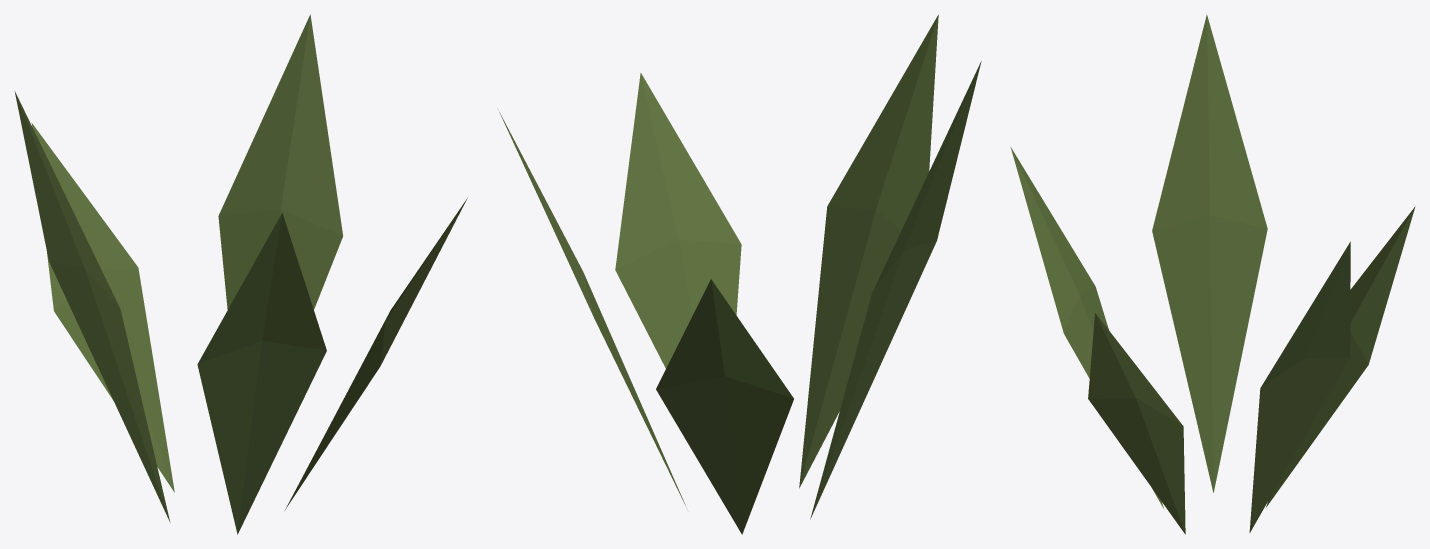
3 renders of one model, left to right at view 1: azimuth 30°, elevation 25°; view 2: azimuth 150°, elevation 25°; view 3: azimuth 270°, elevation 25°, orthographic. The views are drawn at different scales.
Parts seen in each view (by area): view 1: V03_绿洲长叶; view 2: V03_绿洲长叶; view 3: V03_绿洲长叶.
Boxes of the visible parts, x1,y1,x2,y2 form: V03_绿洲长叶: (14, 14, 467, 534); V03_绿洲长叶: (497, 14, 981, 534); V03_绿洲长叶: (1010, 14, 1415, 534).
Size of the model in its own units: 0.4379 by 0.5106 by 0.4551.
